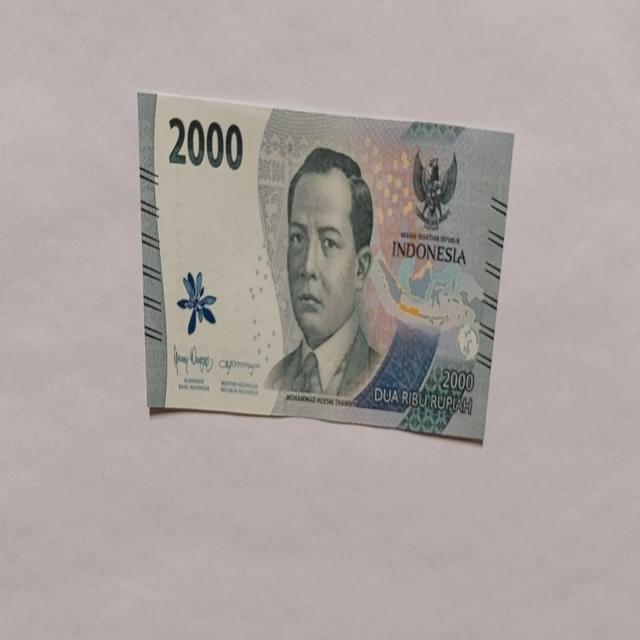dua ribu rupiah: (137, 90, 515, 442), (263, 146, 383, 400)
